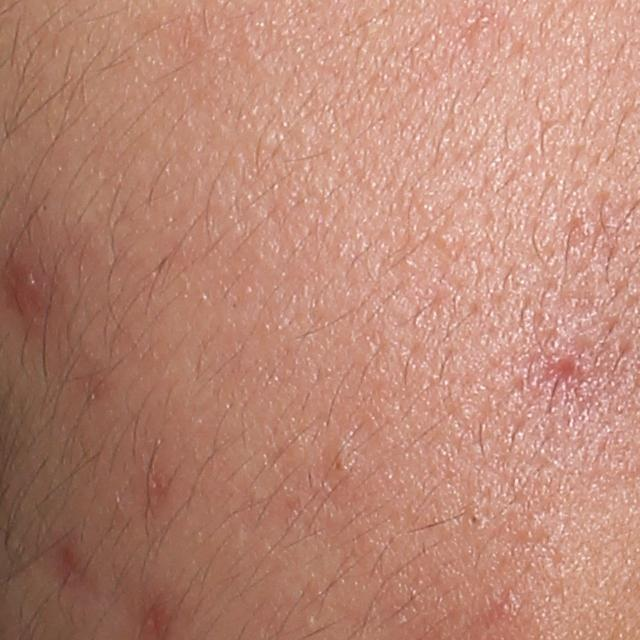comedo: (327, 445, 355, 475), (462, 507, 484, 531)
